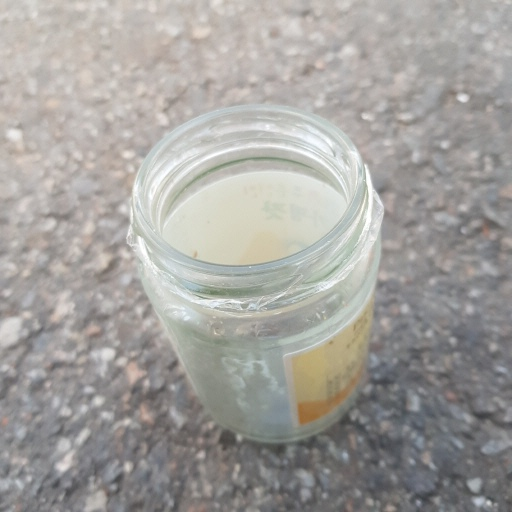Glass_5: (119, 103, 386, 450)
